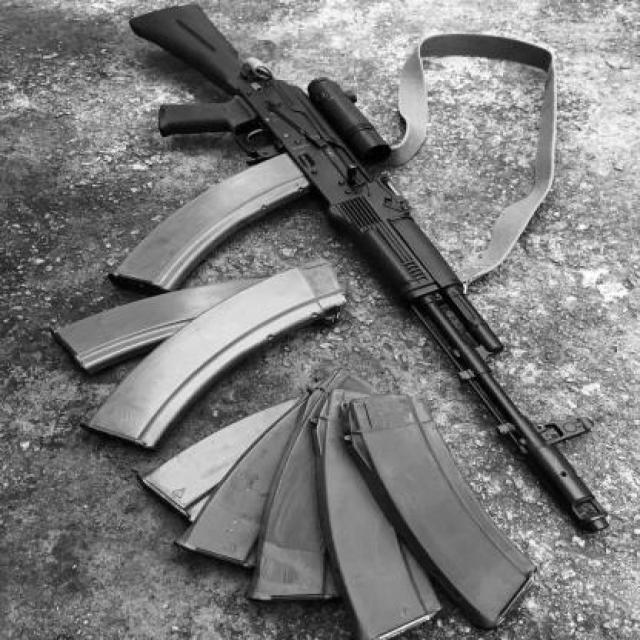weapon: (126, 2, 614, 542)
